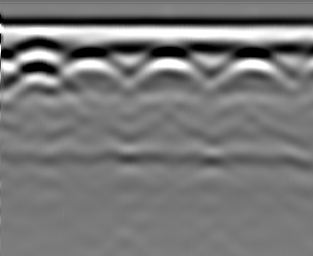pipe: (17, 37, 62, 74)
steel: (222, 50, 279, 84), (66, 47, 119, 79), (140, 46, 188, 80)
